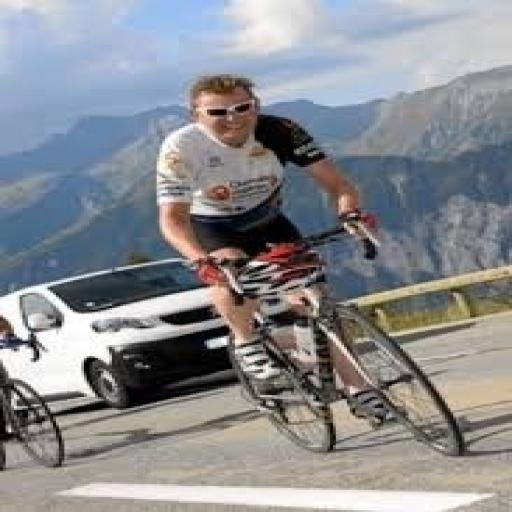cycling: (151, 72, 411, 427)
